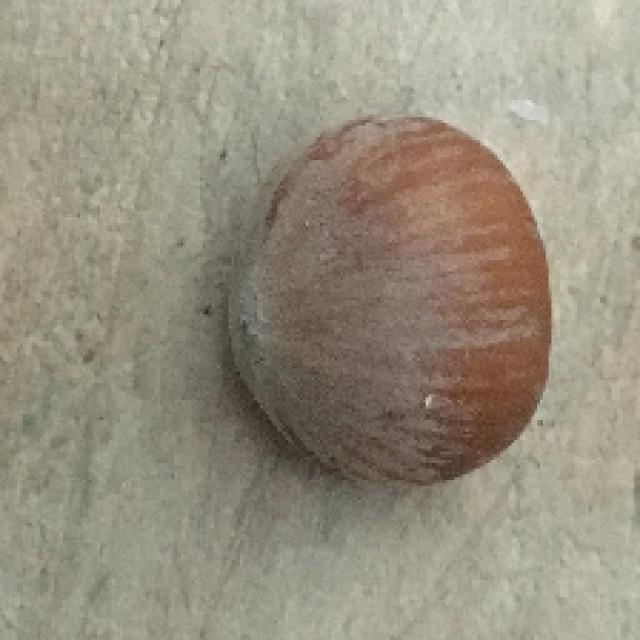qualityHazelnut: (218, 100, 554, 514)
